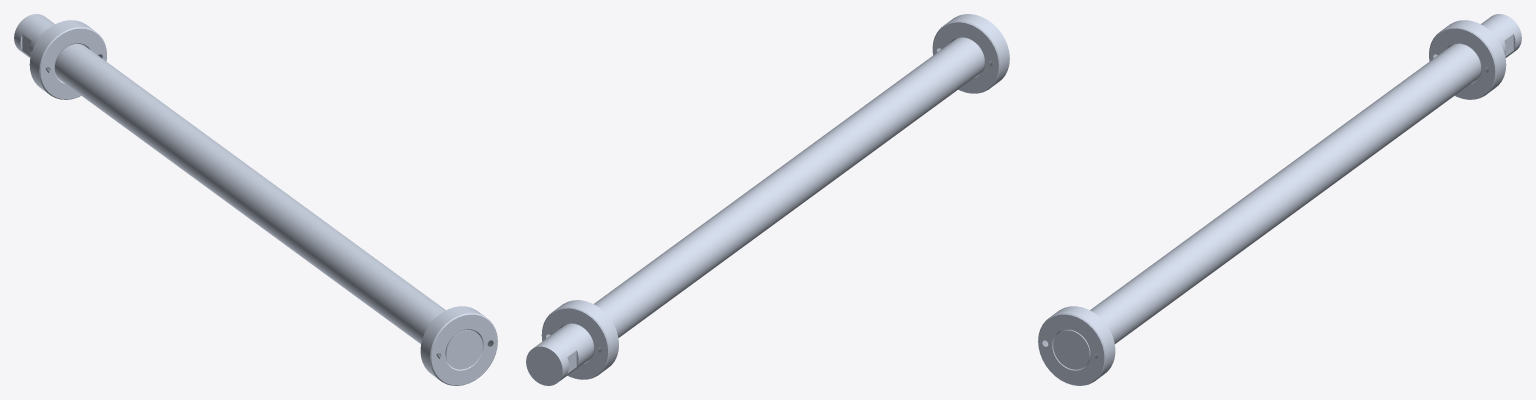
The picture shows the model from 3 angles, left to right: view 1: azimuth 30°, elevation 25°; view 2: azimuth 150°, elevation 25°; view 3: azimuth 330°, elevation 25°; orthographic projection.
Parts seen in each view (by area): view 1: unnamed21.001, unnamed19.001, unnamed17.001; view 2: unnamed21.001, unnamed19.001, unnamed17.001; view 3: unnamed21.001, unnamed19.001, unnamed17.001.
Part boxes in pixels (box(x1,y1,x2,y2)): unnamed21.001: box(14, 14, 482, 369); unnamed19.001: box(420, 306, 497, 385); unnamed17.001: box(29, 20, 106, 99); unnamed21.001: box(526, 37, 984, 385); unnamed19.001: box(932, 14, 1009, 93); unnamed17.001: box(541, 300, 618, 379); unnamed21.001: box(1053, 14, 1521, 369); unnamed19.001: box(1038, 306, 1115, 385); unnamed17.001: box(1429, 20, 1506, 99).
Size of the model in its own units: 37 by 37 by 408.
